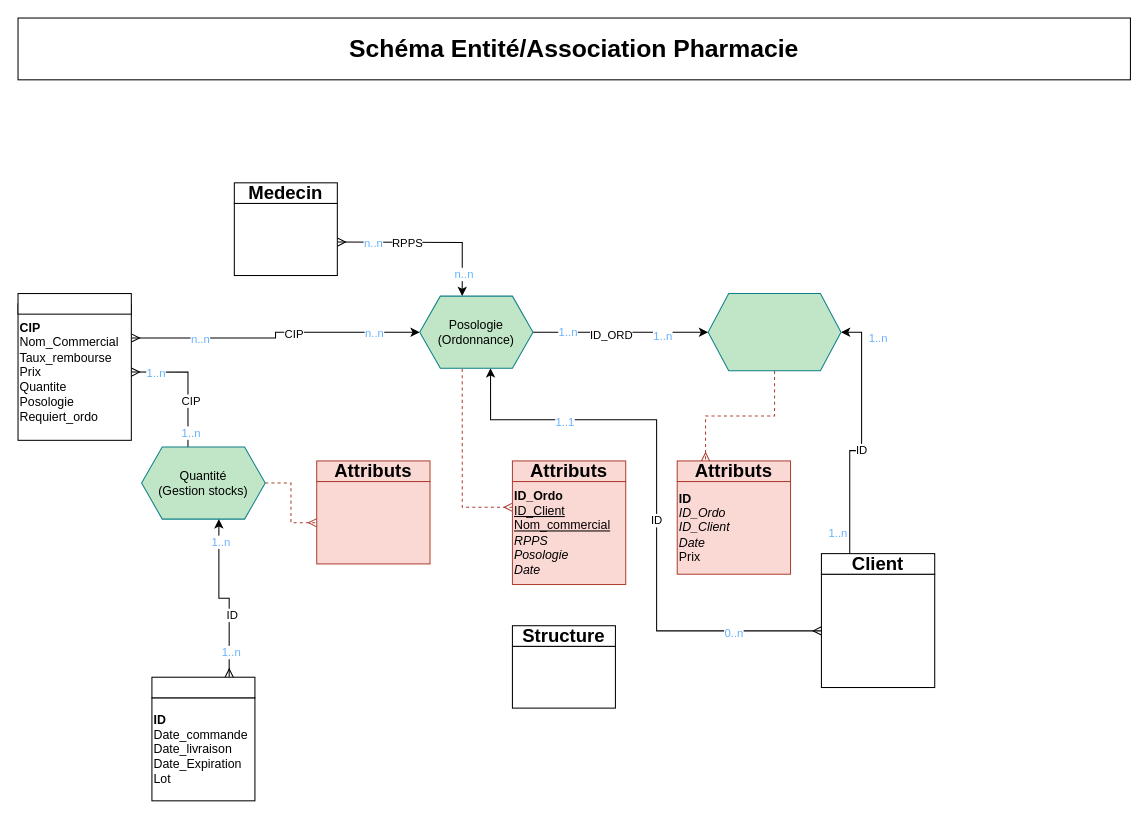
This 1148x819 diagram has some shape labels left out. The shapes that lost their labels are listed below. From the top down, each one's box as (x1, y1, x2, y2) in pixels, then its label:
(233, 202, 337, 276): RPPS Nom Prenom Adresse
(17, 293, 131, 314): Médicament
(707, 293, 841, 371): Paiement (Historique)
(316, 480, 430, 564): ID CIP ID_Commande Quantité Prix_Pharma
(820, 573, 935, 688): ID Nom Prenom Date_Naissance Securite Sociale Mutuelle Numéro_Adherent
(151, 676, 255, 698): Commande
(511, 645, 615, 708): ID Date Budget
